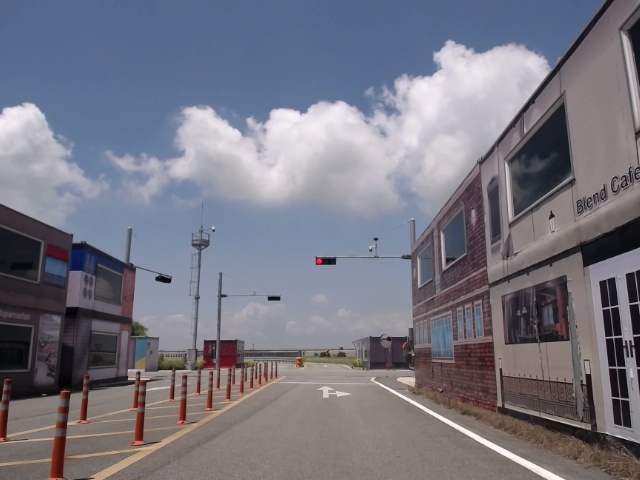red_3: (315, 257, 337, 266)
